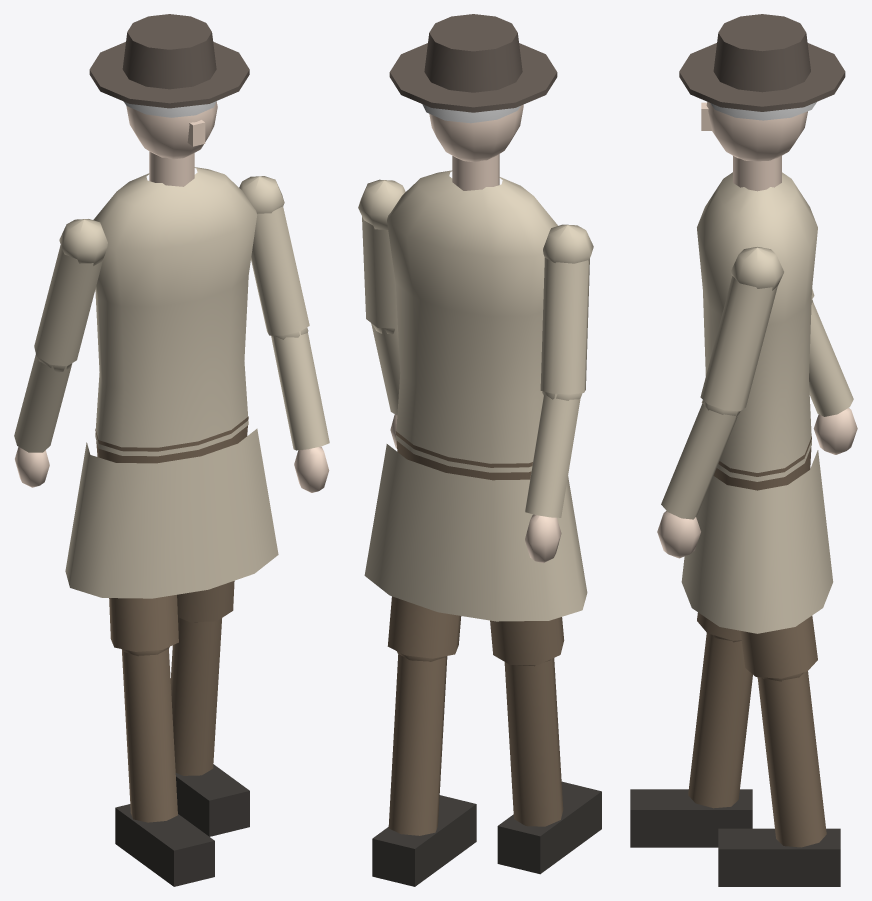
Rendered from person_e.glb.
The picture shows the model from 3 angles, left to right: view 1: azimuth 30°, elevation 25°; view 2: azimuth 150°, elevation 25°; view 3: azimuth 270°, elevation 25°; orthographic projection. The views are drawn at different scales.
Visible parts, largest first — view 1: person; view 2: person; view 3: person.
Part boxes in pixels (bbox=[...]): person: bbox=[14, 14, 329, 886]; person: bbox=[358, 14, 601, 886]; person: bbox=[630, 14, 857, 886].
Bounding box in the file's own units: 0.0293 × 0.093 × 0.0233.
